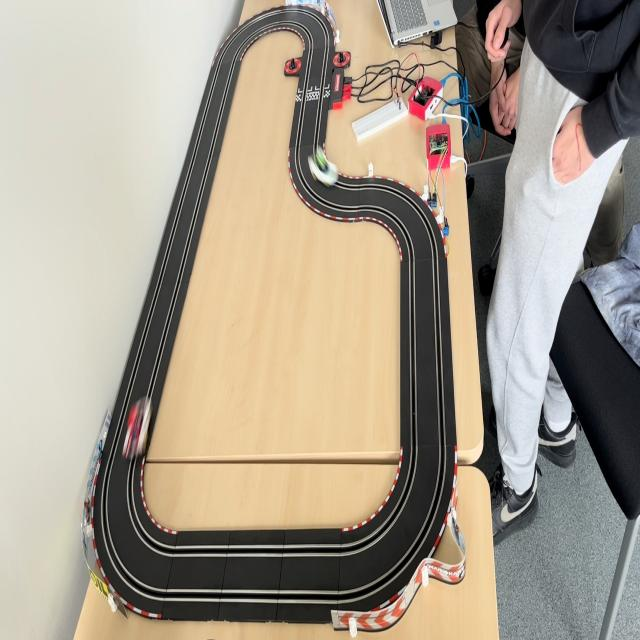mario: (118, 389, 156, 466)
yoshi: (304, 150, 341, 190)
